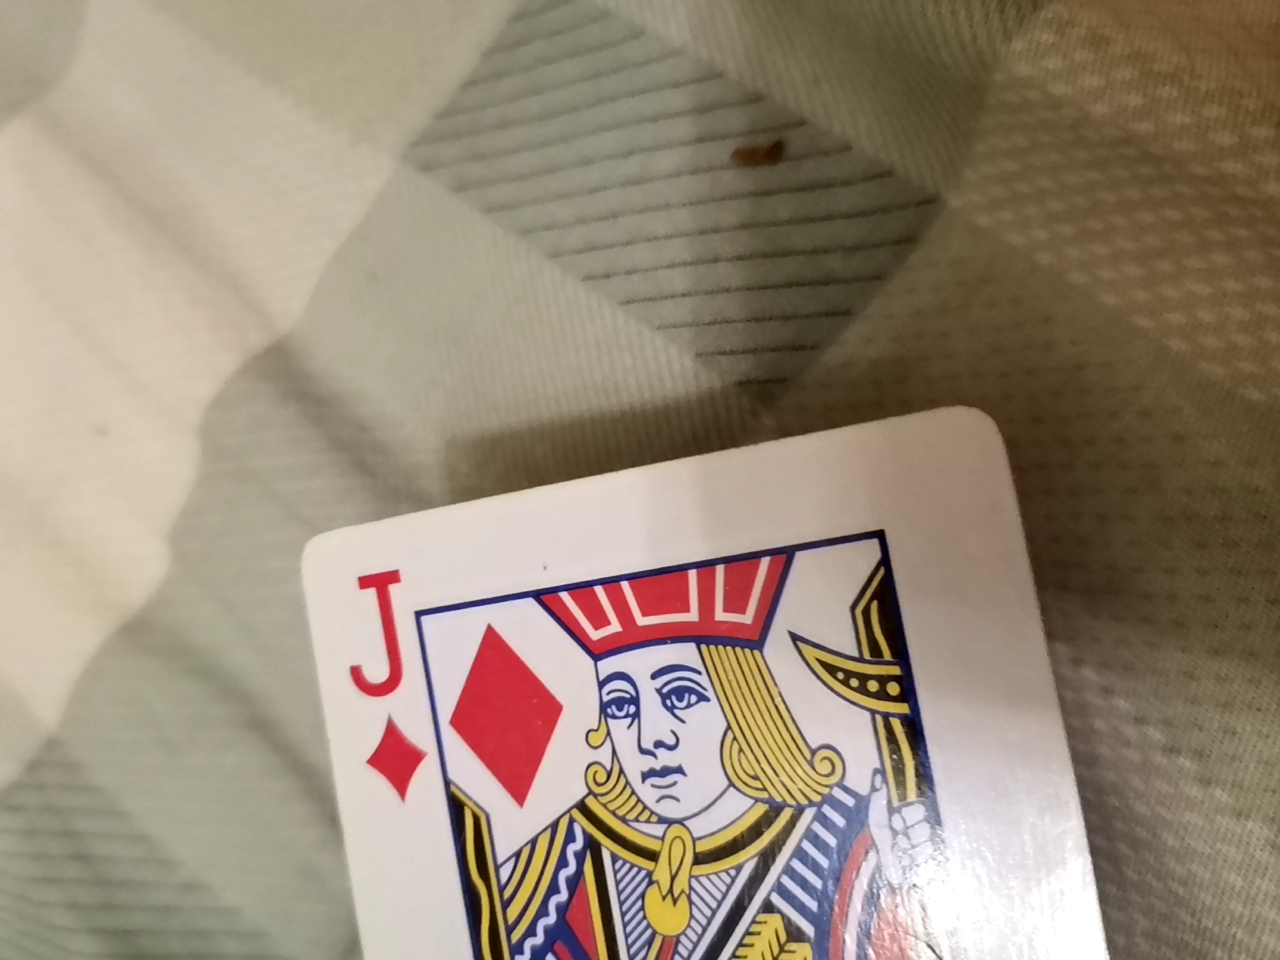fk j: (297, 419, 1182, 958)
